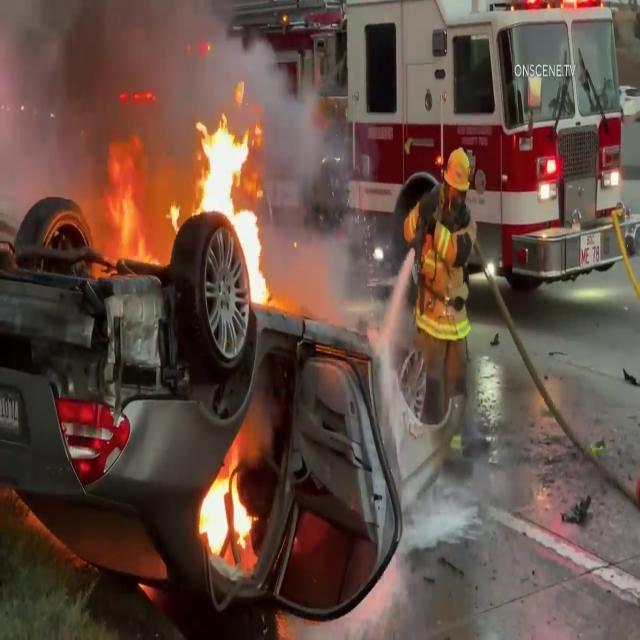Fire: (188, 95, 278, 306), (89, 121, 158, 272), (194, 446, 260, 560)
Smoke: (0, 0, 221, 221), (244, 26, 366, 300)
